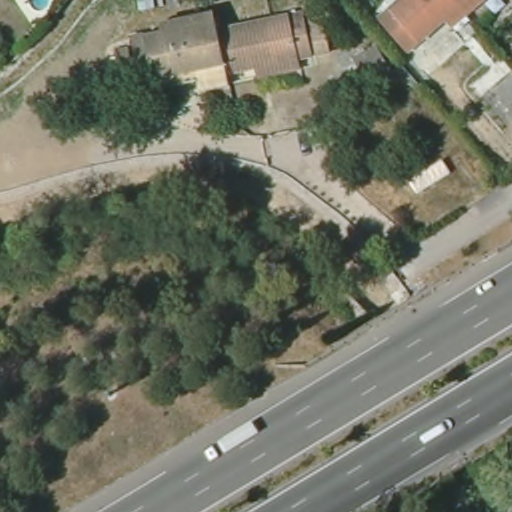pool: (26, 1, 58, 18)
